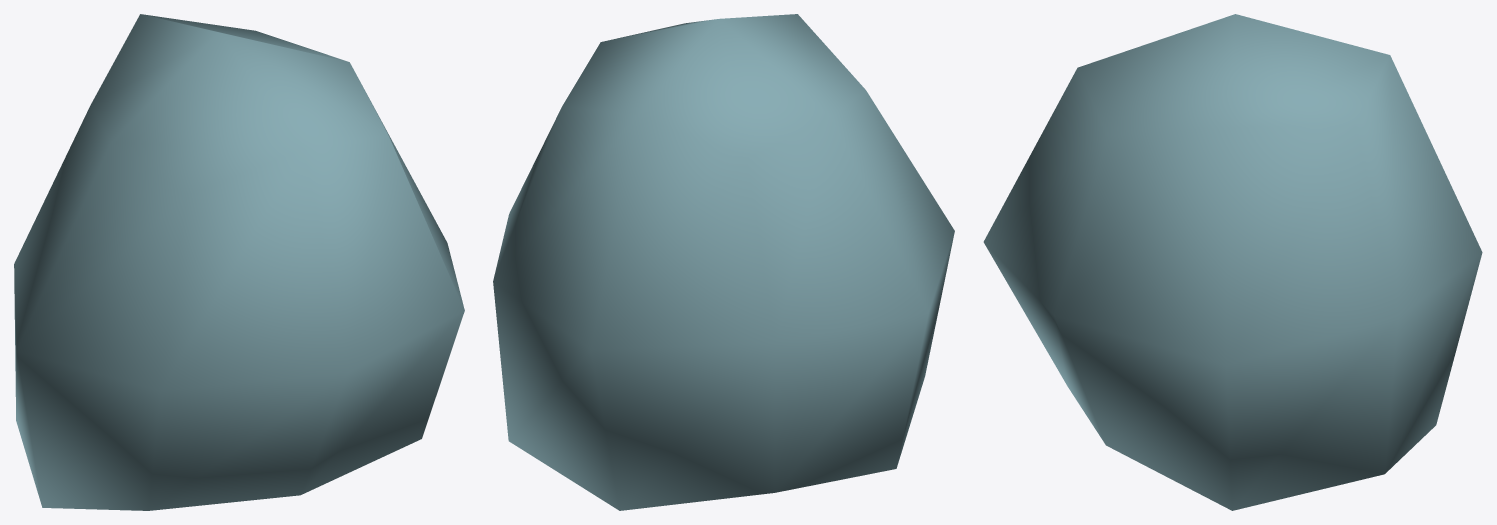
Rendered from UnderWaterRock1.fbx.
3 renders of one model, left to right at view 1: azimuth 30°, elevation 25°; view 2: azimuth 150°, elevation 25°; view 3: azimuth 270°, elevation 25°, orthographic. The views are drawn at different scales.
Parts seen in each view (by area): view 1: UnderWaterRock1; view 2: UnderWaterRock1; view 3: UnderWaterRock1.
Part boxes in pixels (x1,y1,x2,y2): UnderWaterRock1: (14,14,464,510); UnderWaterRock1: (493,14,954,510); UnderWaterRock1: (983,14,1482,510).
Bounding box in the file's own units: 1.23 × 1.29 × 1.28.
